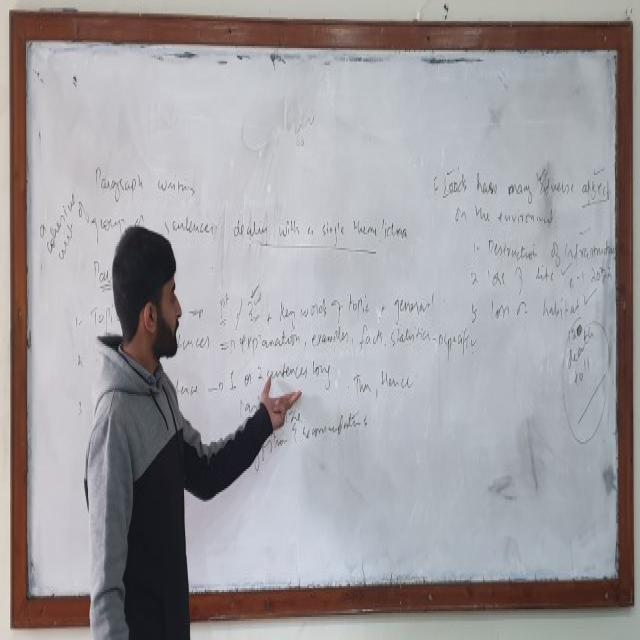Instructor: (87, 217, 195, 640)
White-board: (17, 24, 625, 610)
